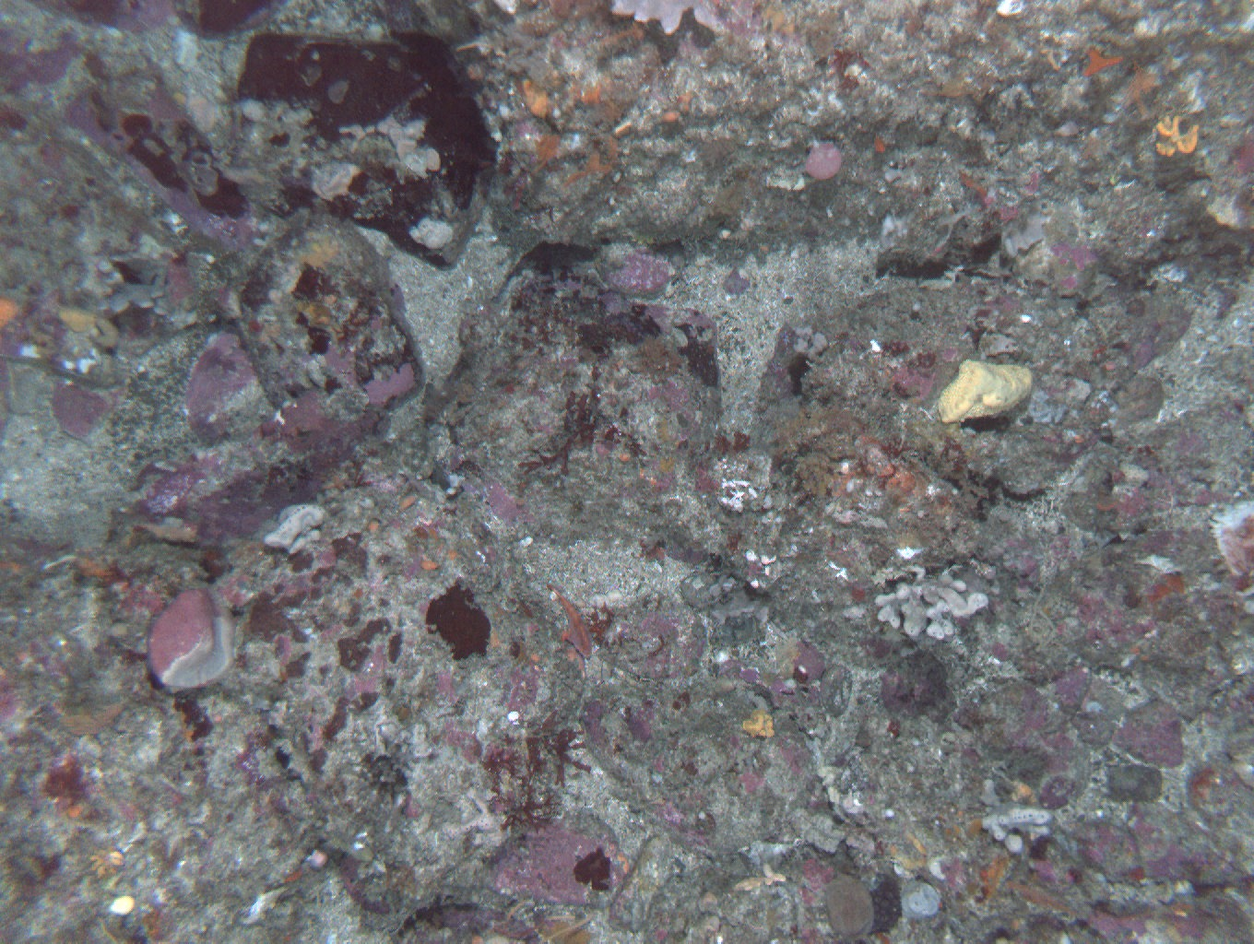Brachionichthyidae: (541, 581, 607, 662)
